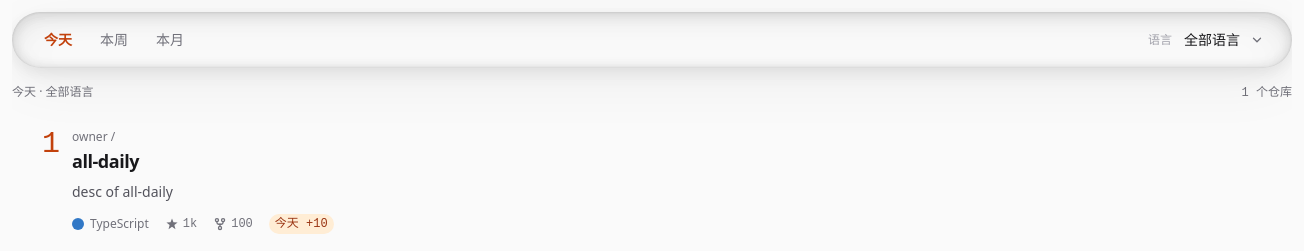
RepoBrowser › fetches same-origin proxy on cache miss, then serves revisit from cache without refetch
This screenshot has width=1304, height=251.
Select "Python" in the dropdown at [1224, 40], box left=1176, top=24, right=1272, bottom=56
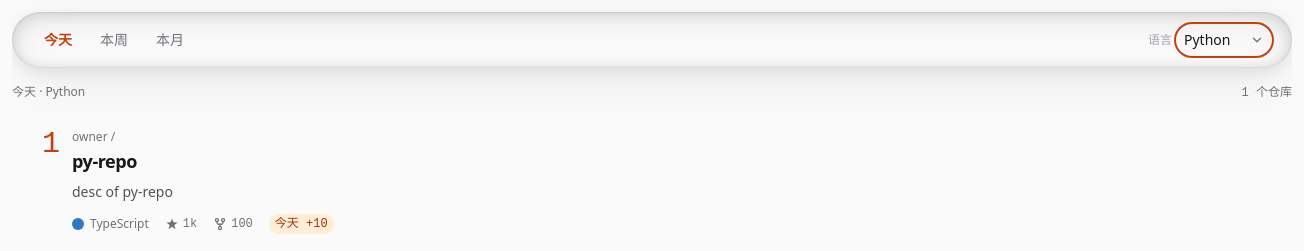
Check: the text "py-repo" is shown, box left=72, top=149, right=137, bottom=173
再切回首个键（初始播种的缓存）：不二次 fetch
Select "全部语言" in the dropdown at [1224, 40], box left=1176, top=24, right=1272, bottom=56
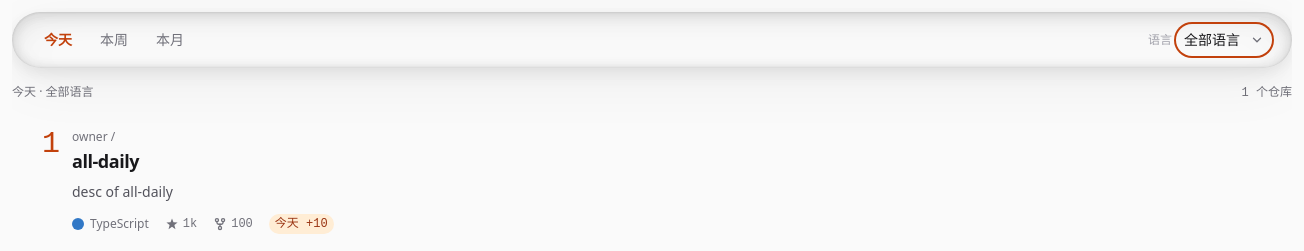
Check: the text "all-daily" is shown, box left=72, top=149, right=139, bottom=173
